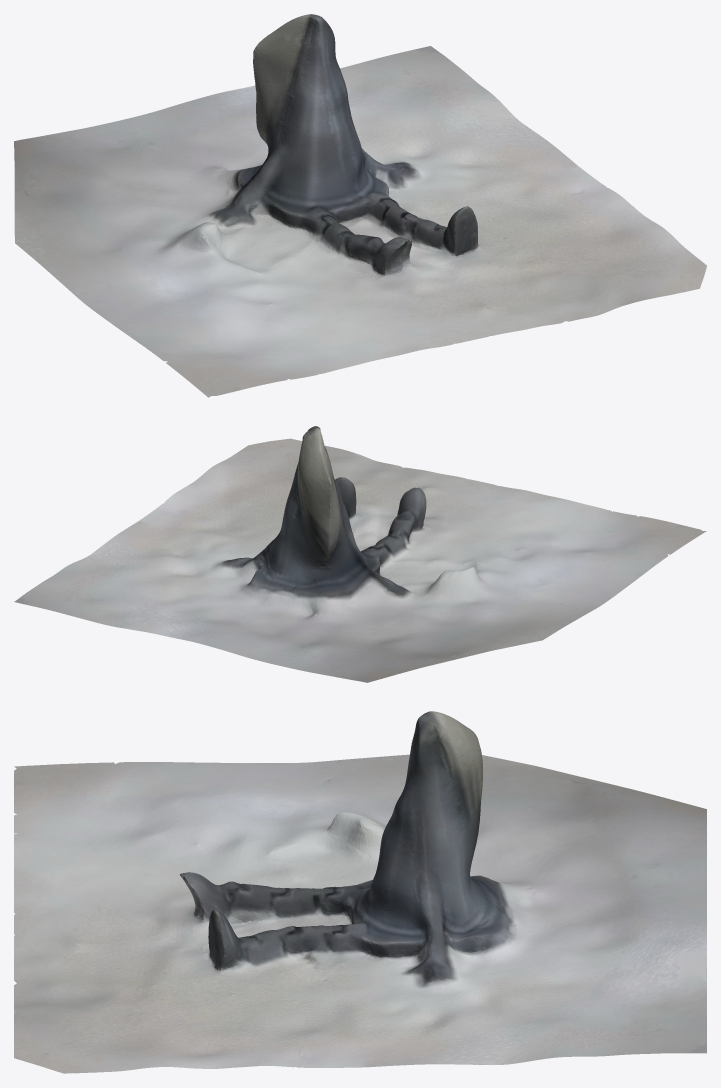
The model's file is cone-figure.glb.
3 views of the same model, one above another, from view 1: azimuth 30°, elevation 25°; view 2: azimuth 150°, elevation 25°; view 3: azimuth 270°, elevation 25° (orthographic). The views are drawn at different scales.
Bounding box in the file's own units: 0.7491 × 0.2708 × 0.743.
Materials: 1 (1 with a texture image).
